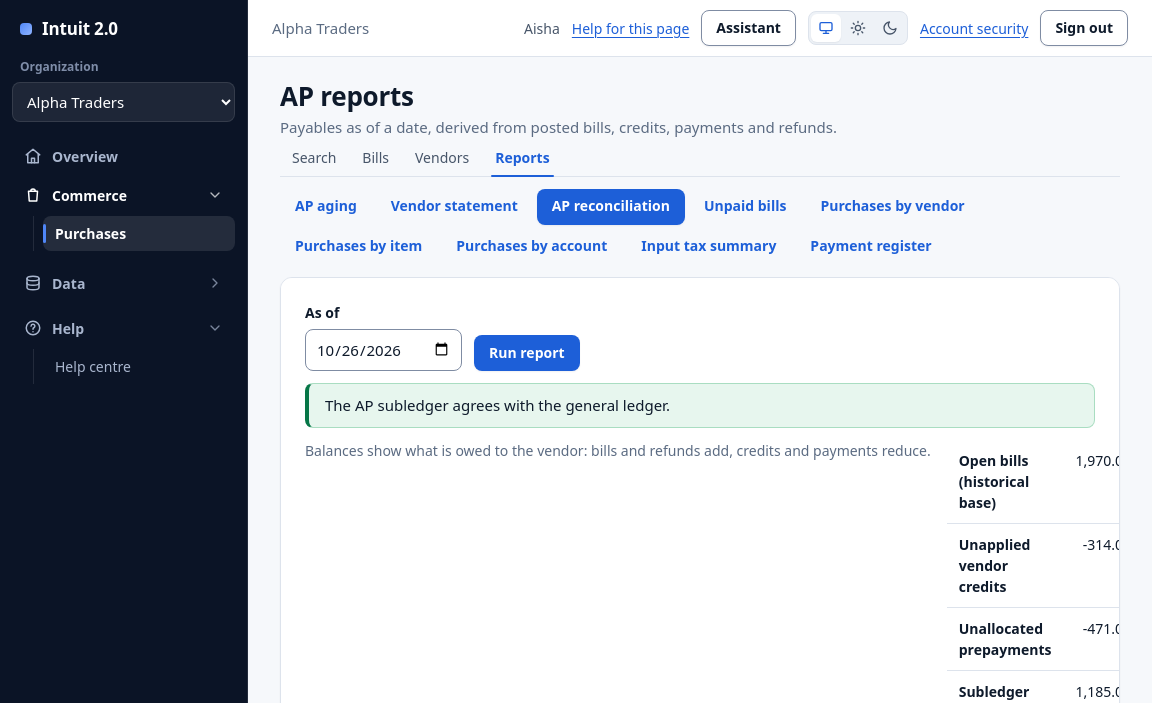
Test: AP reports › shows the AP reconciliation with its reconciling items
Expected: the text "The AP subledger agrees with the general ledger." is shown, [305,383,1095,428]
Expected: the column heading "Open bills (historical base)" is shown, [947,440,1064,523]
In the date field labelled "As of": (384, 350) [305,329,462,371], type "2026-03-30"
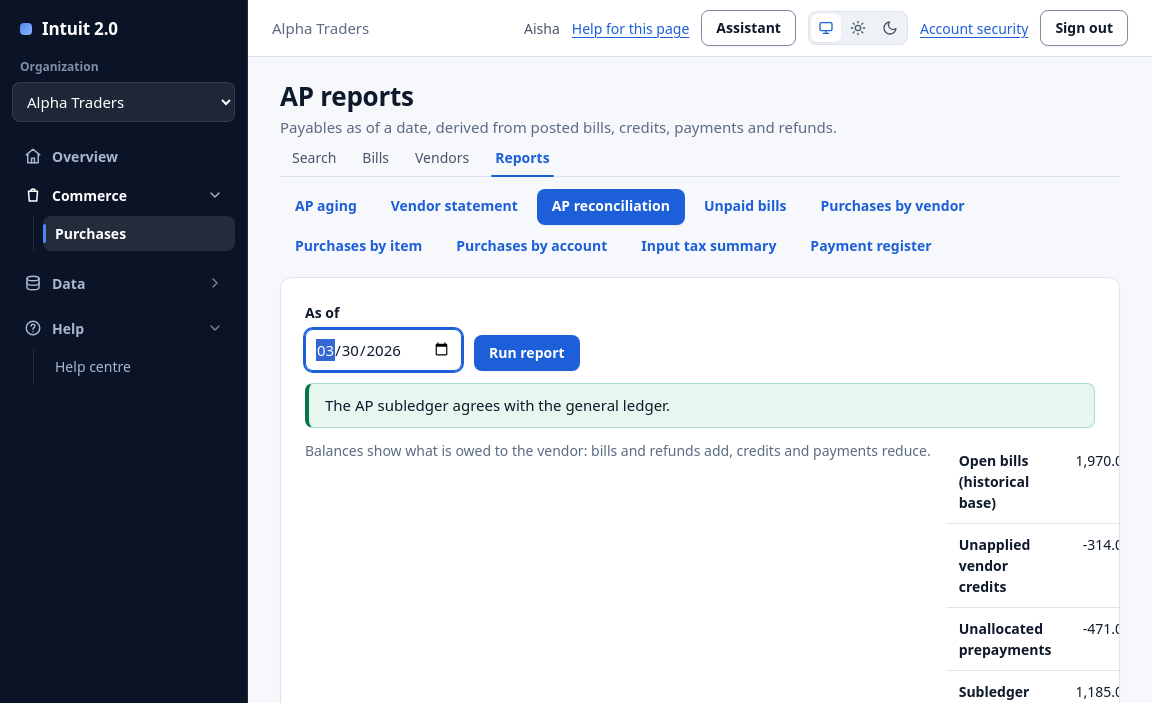
Click the button "Run report": (527, 353) [474,335,580,371]
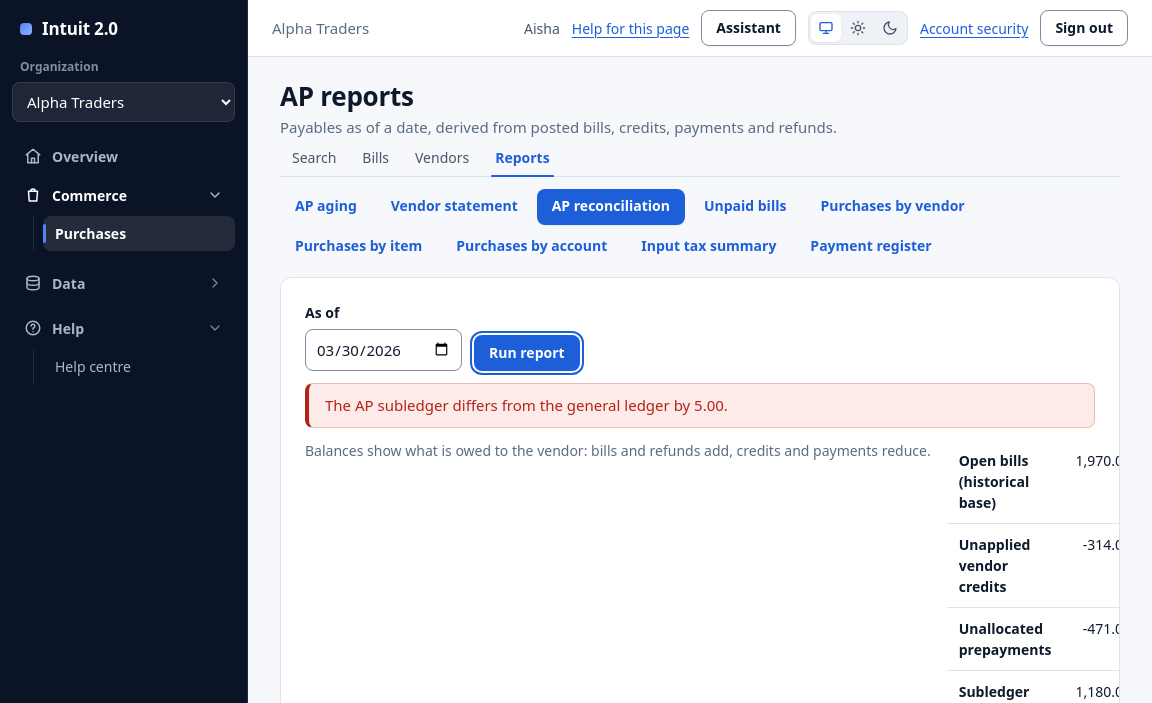
Result: the text "The AP subledger differs from the general ledger by 5.00." is shown at [305,383,1095,428]
